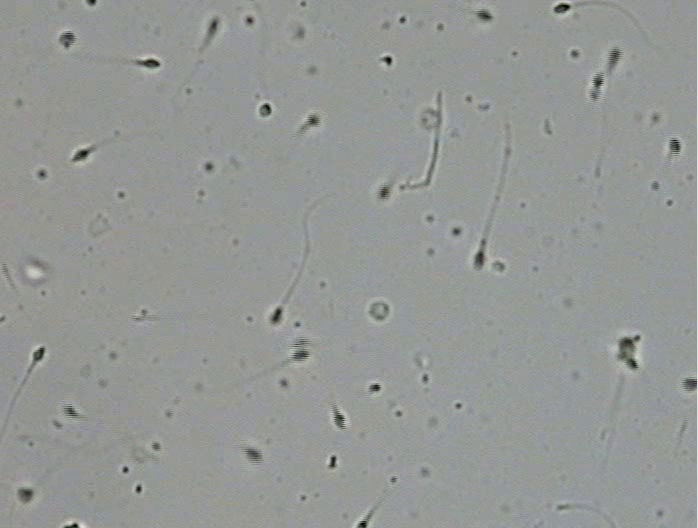Impurity: (368, 301, 390, 320)
S: (617, 338, 635, 359), (242, 447, 262, 464), (590, 72, 602, 100), (58, 31, 76, 48), (332, 410, 347, 430), (608, 47, 621, 68), (62, 403, 78, 419), (291, 349, 310, 362), (17, 488, 33, 503), (681, 377, 697, 392), (72, 149, 89, 162), (270, 308, 283, 325), (206, 18, 218, 36), (669, 138, 681, 156), (139, 59, 160, 69), (291, 337, 310, 348), (474, 251, 485, 270), (476, 9, 492, 22), (307, 113, 321, 127), (33, 346, 45, 362), (259, 103, 272, 117), (378, 185, 390, 200), (554, 3, 570, 14), (624, 358, 639, 369), (356, 520, 368, 528), (85, 1, 97, 6)
